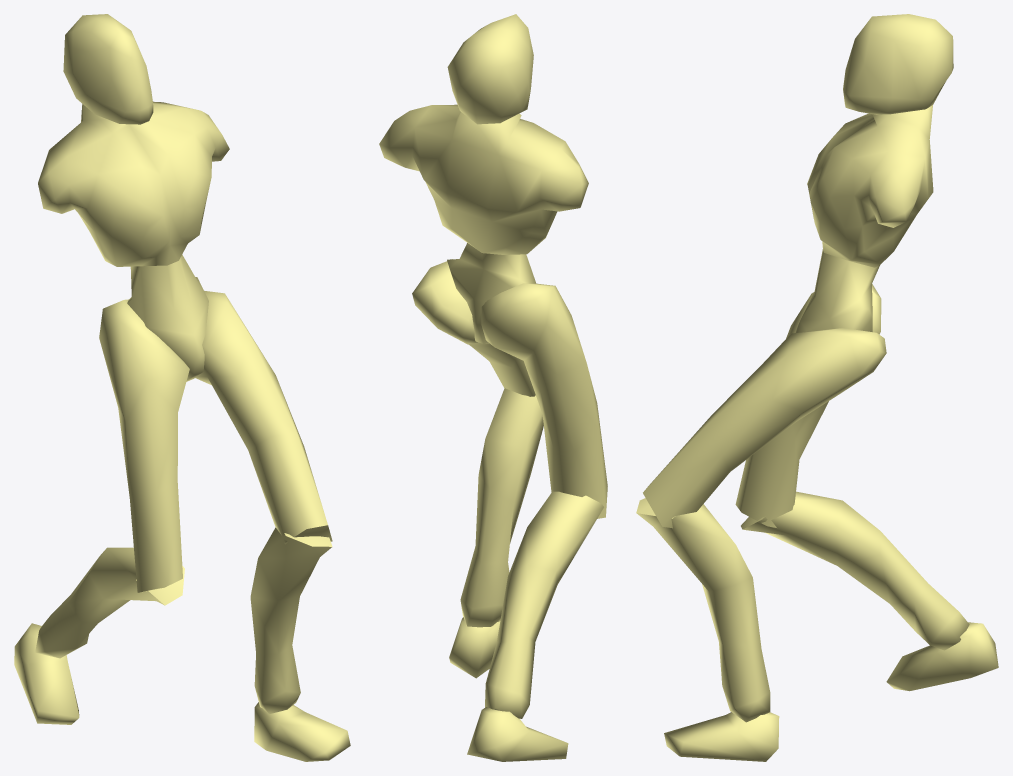
File: filth26.obj
3 renders of one model, left to right at view 1: azimuth 30°, elevation 25°; view 2: azimuth 150°, elevation 25°; view 3: azimuth 270°, elevation 25°, orthographic. The views are drawn at different scales.
Parts seen in each view (by area): view 1: Melee_Husk; view 2: Melee_Husk; view 3: Melee_Husk.
Part boxes in pixels (x1,y1,x2,y2): Melee_Husk: [14, 14, 350, 761]; Melee_Husk: [379, 14, 607, 761]; Melee_Husk: [636, 14, 998, 761].
Size of the model in its own units: 22.86 by 73.13 by 34.62.
